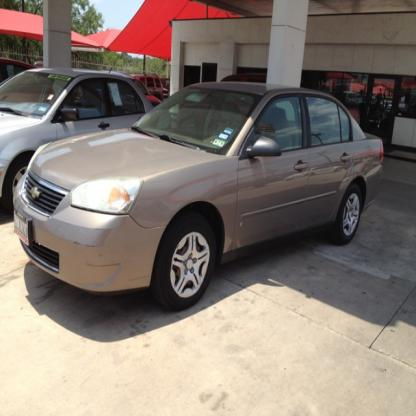Vehicle: (16, 85, 384, 297)
